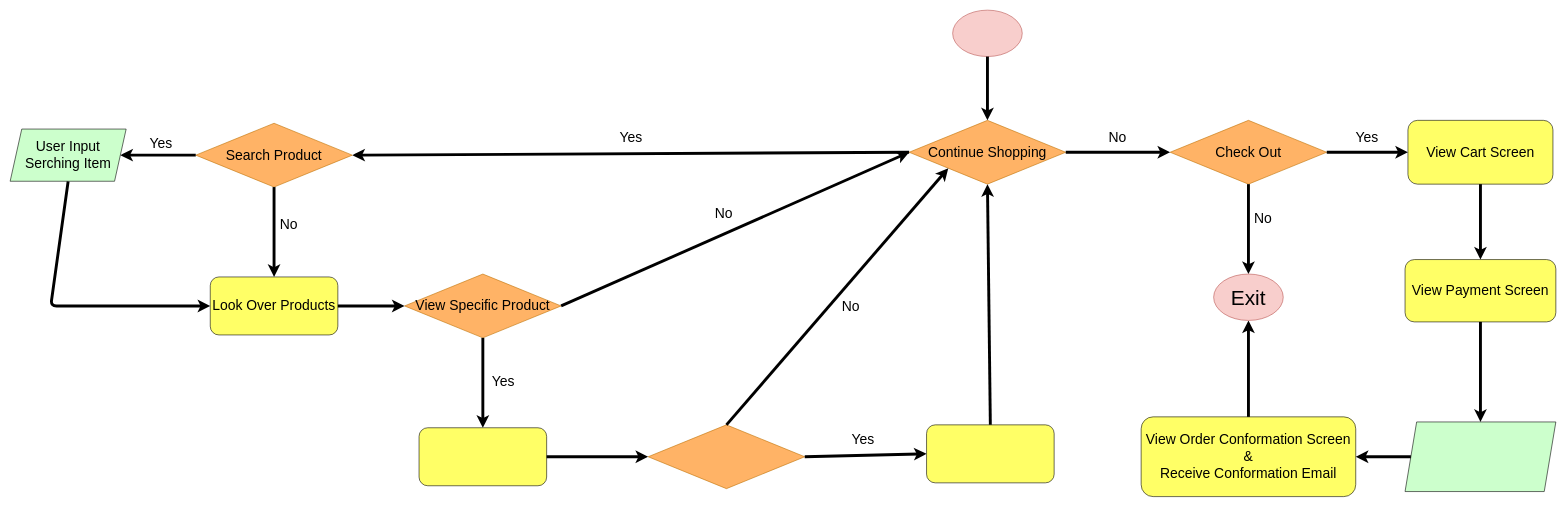
The diagram is 1566 pixels wide and 507 high, and some of its shapes have lost their labels. Each missing label, with the box of its shape:
Add Item to Cart: (648, 424, 805, 489)
Enter: (952, 10, 1022, 57)
Input Payment Info: (1404, 421, 1556, 492)
Look Product Page: (418, 427, 547, 486)
Receive Cart Confirmation: (926, 424, 1054, 483)
